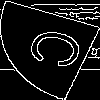C: (25, 25, 97, 76)
